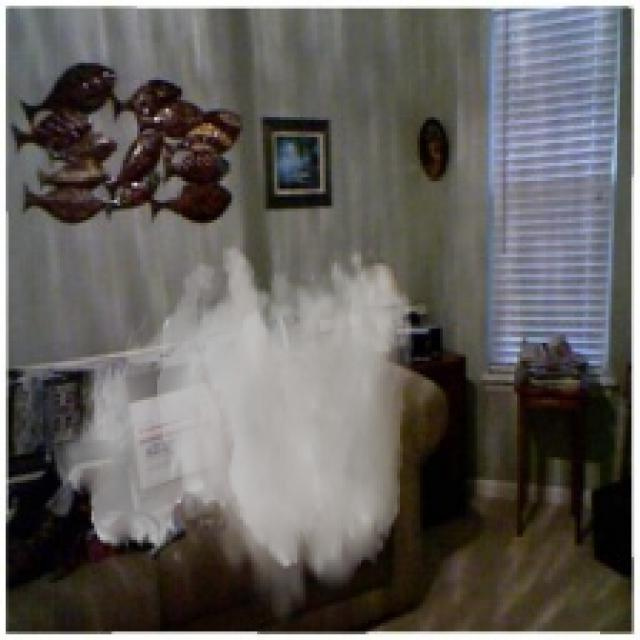smoke: (43, 243, 414, 631)
